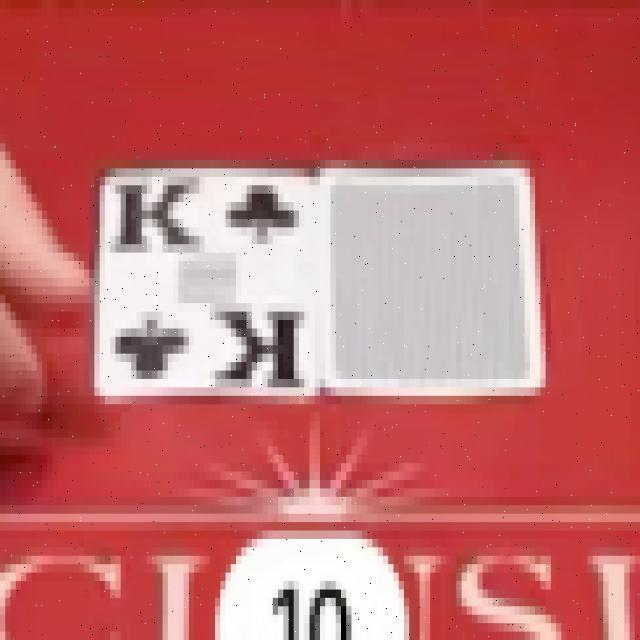Card-K: (96, 165, 318, 395)
